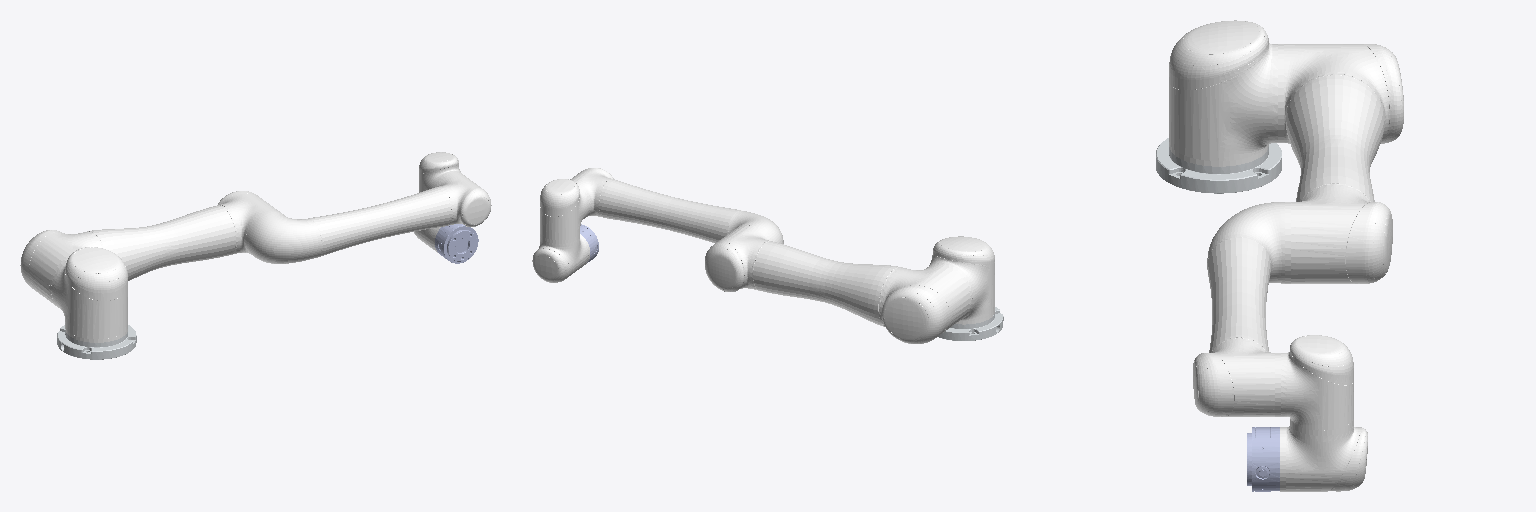
robot.urdf — ec66:
<?xml version="1.0" encoding="utf-8"?>
<robot name="ec66">
    <link name="world" />
  <joint name="world_joint" type="fixed">
    <origin xyz="0 0 0" rpy="0 0 0" />
    <parent link="world" />
    <child link="base_link" />
  </joint>
  <link name="base_link">
  <inertial>
    <origin xyz="0.00039768 8.0247E-10 0.012605" rpy="0 0 0" />
    <mass value="0.41542" />
    <inertia ixx="0.00054632" ixy="-4.5067E-09" ixz="5.9528E-07" iyy="0.00053741" iyz="-3.5275E-10" izz="0.0010336" />
  </inertial>
  <visual>
    <origin xyz="0 0 0" rpy="0 0 0" />
    <geometry>
      <mesh filename="package://elite_description/meshes/ec66/base_link.STL" />
    </geometry>
    <material name="">
      <color rgba="0.89412 0.91373 0.92941 1" />
    </material>
  </visual>
  <collision>
    <origin xyz="0 0 0" rpy="0 0 0" />
    <geometry>
      <mesh filename="package://elite_description/meshes/ec66/base_link.STL" />
    </geometry>
  </collision>
  </link>
  <link name="link1">
  <inertial>
    <origin xyz="-3.9337E-06 0.0082614 0.0028405" rpy="0 0 0" />
    <mass value="1.7827" />
    <inertia ixx="0.0031691" ixy="-1.2175E-07" ixz="2.8351E-08" iyy="0.0029334" iyz="-0.00037927" izz="0.0035086" />
  </inertial>
  <visual>
    <origin xyz="0 0 0" rpy="0 0 0" />
    <geometry>
      <mesh filename="package://elite_description/meshes/ec66/link1.STL" />
    </geometry>
    <material name="">
      <color rgba="1 1 1 1" />
    </material>
  </visual>
  <collision>
    <origin xyz="0 0 0" rpy="0 0 0" />
    <geometry>
      <mesh filename="package://elite_description/meshes/ec66/link1.STL" />
    </geometry>
  </collision>
  </link>
  <joint name="joint1" type="revolute">
    <origin xyz="0 0 0.096" rpy="0 0 0" />
    <parent link="base_link" />
    <child link="link1" />
    <axis xyz="0 0 1" />
    <limit lower="-6.2832" upper="6.2832" effort="150" velocity="2.6199" />
  </joint>
  <link name="link2">
  <inertial>
    <origin xyz="2.17E-06 0.017318 0.17637" rpy="0 0 0" />
    <mass value="4.8843" />
    <inertia ixx="0.022101" ixy="1.2727E-07" ixz="1.0833E-07" iyy="0.022526" iyz="-0.00021178" izz="0.0066105" />
  </inertial>
  <visual>
    <origin xyz="0 0 0" rpy="0 0 0" />
    <geometry>
      <mesh filename="package://elite_description/meshes/ec66/link2.STL" />
    </geometry>
    <material name="">
      <color rgba="1 1 1 1" />
    </material>
  </visual>
  <collision>
    <origin xyz="0 0 0" rpy="0 0 0" />
    <geometry>
      <mesh filename="package://elite_description/meshes/ec66/link2.STL" />
    </geometry>
  </collision>
  </link>
  <joint name="joint2" type="revolute">
    <origin xyz="0 0.122 0" rpy="0 1.5708 0" />
    <parent link="link1" />
    <child link="link2" />
    <axis xyz="0 1 0" />
    <limit lower="-6.2832" upper="6.2832" effort="150" velocity="2.6199" />
  </joint>
  <link name="link3">
  <inertial>
    <origin xyz="-7.9845E-06 0.028008 0.20069" rpy="0 0 0" />
    <mass value="2.1495" />
    <inertia ixx="0.0091566" ixy="-1.4815E-07" ixz="-2.8912E-08" iyy="0.0091573" iyz="7.3471E-05" izz="0.0015747" />
  </inertial>
  <visual>
    <origin xyz="0 0 0" rpy="0 0 0" />
    <geometry>
      <mesh filename="package://elite_description/meshes/ec66/link3.STL" />
    </geometry>
    <material name="">
      <color rgba="1 1 1 1" />
    </material>
  </visual>
  <collision>
    <origin xyz="0 0 0" rpy="0 0 0" />
    <geometry>
      <mesh filename="package://elite_description/meshes/ec66/link3.STL" />
    </geometry>
  </collision>
  </link>
  <joint name="joint3" type="revolute">
    <origin xyz="0 -0.122 0.418" rpy="0 0 0" />
    <parent link="link2" />
    <child link="link3" />
    <axis xyz="0 1 0" />
    <limit lower="-2.7925" upper="2.7925" effort="150" velocity="3.3161" />
  </joint>
  <link name="link4">
  <inertial>
    <origin xyz="5.2272E-07 0.11599 -0.00070291" rpy="0 0 0" />
    <mass value="0.53436" />
    <inertia ixx="0.00041486" ixy="1.1841E-09" ixz="4.7177E-09" iyy="0.00037669" iyz="-5.8283E-05" izz="0.0004403" />
  </inertial>
  <visual>
    <origin xyz="0 0 0" rpy="0 0 0" />
    <geometry>
      <mesh filename="package://elite_description/meshes/ec66/link4.STL" />
    </geometry>
    <material name="">
      <color rgba="1 1 1 1" />
    </material>
  </visual>
  <collision>
    <origin xyz="0 0 0" rpy="0 0 0" />
    <geometry>
      <mesh filename="package://elite_description/meshes/ec66/link4.STL" />
    </geometry>
  </collision>
  </link>
  <joint name="joint4" type="revolute">
    <origin xyz="0 0 0.398" rpy="0 1.5708 0" />
    <parent link="link3" />
    <child link="link4" />
    <axis xyz="0 1 0" />
    <limit lower="-6.2832" upper="6.2832" effort="28" velocity="4.5379" />
  </joint>
  <link name="link5">
  <inertial>
    <origin xyz="5.2281E-07 0.00070291 0.091994" rpy="0 0 0" />
    <mass value="0.53436" />
    <inertia ixx="0.00041486" ixy="-4.6787E-09" ixz="1.1523E-09" iyy="0.0004403" iyz="5.8283E-05" izz="0.00037669" />
  </inertial>
  <visual>
    <origin xyz="0 0 0" rpy="0 0 0" />
    <geometry>
      <mesh filename="package://elite_description/meshes/ec66/link5.STL" />
    </geometry>
    <material name="">
      <color rgba="1 1 1 1" />
    </material>
  </visual>
  <collision>
    <origin xyz="0 0 0" rpy="0 0 0" />
    <geometry>
      <mesh filename="package://elite_description/meshes/ec66/link5.STL" />
    </geometry>
  </collision>
  </link>
  <joint name="joint5" type="revolute">
    <origin xyz="0 0.122 0" rpy="0 0 0" />
    <parent link="link4" />
    <child link="link5" />
    <axis xyz="0 0 1" />
    <limit lower="-6.2832" upper="6.2832" effort="28" velocity="4.5379" />
  </joint>
  <link name="link6">
  <inertial>
    <origin xyz="1.7828E-08 -0.067831 -2.6091E-05" rpy="0 0 0" />
    <mass value="0.16488" />
    <inertia ixx="7.7869E-05" ixy="1.9128E-10" ixz="-3.3406E-10" iyy="0.00011744" iyz="-7.8331E-08" izz="7.757E-05" />
  </inertial>
  <visual>
    <origin xyz="0 0 0" rpy="0 0 0" />
    <geometry>
      <mesh filename="package://elite_description/meshes/ec66/link6.STL" />
    </geometry>
    <material name="">
      <color rgba="0.79216 0.81961 0.93333 1" />
    </material>
  </visual>
  <collision>
    <origin xyz="0 0 0" rpy="0 0 0" />
    <geometry>
      <mesh filename="package://elite_description/meshes/ec66/link6.STL" />
    </geometry>
  </collision>
  </link>
  <joint name="joint6" type="revolute">
    <origin xyz="0 0 0.098" rpy="0 0 0" />
    <parent link="link5" />
    <child link="link6" />
    <axis xyz="0 -1 0" />
    <limit lower="-6.2832" upper="6.2832" effort="28" velocity="4.5379" />
  </joint>
  <link name="flan">
  <inertial>
    <origin xyz="-0.0051042 0.00088494 -0.00052221" rpy="0 0 0" />
    <mass value="0.10466" />
    <inertia ixx="0.00061835" ixy="0.00024116" ixz="-6.2654E-05" iyy="1.00441" iyz="1.3293E-05" izz="1.000143" />
  </inertial>
  <visual>
    <origin xyz="0 0 0" rpy="0 0 0" />
    <geometry>
      <box size="0 0 0" />
    </geometry>
    <material name="">
      <color rgba="1 1 1 1" />
    </material>
  </visual>
  <collision>
    <origin xyz="0 0 0" rpy="0 0 0" />
    <geometry>
      <box size="0 0 0" />
    </geometry>
  </collision>
  </link>
  <joint name="flan_joint" type="fixed">
    <origin xyz="0 -0.089 -0.00047661" rpy="-1.5708 0 3.1416" />
    <parent link="link6" />
    <child link="flan" />
    <axis xyz="0 0 0" />
  </joint>

    <transmission name="trans_joint1">
        <type>transmission_interface/SimpleTransmission</type>
        <joint name="joint1">
            <hardwareInterface>hardware_interface/PositionJointInterface</hardwareInterface>
        </joint>
        <actuator name="joint1_motor">
            <mechanicalReduction>1</mechanicalReduction>
        </actuator>
    </transmission>
    <transmission name="trans_joint2">
        <type>transmission_interface/SimpleTransmission</type>
        <joint name="joint2">
            <hardwareInterface>hardware_interface/PositionJointInterface</hardwareInterface>
        </joint>
        <actuator name="joint2_motor">
            <mechanicalReduction>1</mechanicalReduction>
        </actuator>
    </transmission>
    <transmission name="trans_joint3">
        <type>transmission_interface/SimpleTransmission</type>
        <joint name="joint3">
            <hardwareInterface>hardware_interface/PositionJointInterface</hardwareInterface>
        </joint>
        <actuator name="joint3_motor">
            <mechanicalReduction>1</mechanicalReduction>
        </actuator>
    </transmission>
    <transmission name="trans_joint4">
        <type>transmission_interface/SimpleTransmission</type>
        <joint name="joint4">
            <hardwareInterface>hardware_interface/PositionJointInterface</hardwareInterface>
        </joint>
        <actuator name="joint4_motor">
            <mechanicalReduction>1</mechanicalReduction>
        </actuator>
    </transmission>
    <transmission name="trans_joint5">
        <type>transmission_interface/SimpleTransmission</type>
        <joint name="joint5">
            <hardwareInterface>hardware_interface/PositionJointInterface</hardwareInterface>
        </joint>
        <actuator name="joint5_motor">
            <mechanicalReduction>1</mechanicalReduction>
        </actuator>
    </transmission>
    <transmission name="trans_joint6">
        <type>transmission_interface/SimpleTransmission</type>
        <joint name="joint6">
            <hardwareInterface>hardware_interface/PositionJointInterface</hardwareInterface>
        </joint>
        <actuator name="joint6_motor">
            <mechanicalReduction>1</mechanicalReduction>
        </actuator>
    </transmission>
    <gazebo>
        <plugin name="gazebo_ros_control" filename="libgazebo_ros_control.so">
            <robotNamespace>/</robotNamespace>
        </plugin>
    </gazebo>
</robot>

--- Render facts (derived) ---
Views: 3 orthographic renders of the robot side by side, from view 1: azimuth 30°, elevation 25°; view 2: azimuth 150°, elevation 25°; view 3: azimuth 270°, elevation 25°.
Robot: ec66 — 9 links, 8 joints (6 revolute, 2 fixed); root link world; default pose: all joints at 0.
Visible links, largest first — view 1: link2, link3, link1, base_link, link6, link4; view 2: link2, link3, link1, link4, link5, base_link; view 3: link2, link3, link1, link4, link5, base_link, link6.
Link boxes in pixels (bbox=[...]): link2: bbox=[20, 191, 280, 305]; link3: bbox=[246, 173, 491, 263]; link1: bbox=[51, 247, 127, 342]; base_link: bbox=[57, 325, 136, 359]; link6: bbox=[435, 224, 478, 263]; link4: bbox=[419, 152, 461, 192]; link2: bbox=[705, 224, 972, 343]; link3: bbox=[570, 168, 783, 243]; link1: bbox=[929, 236, 994, 324]; link4: bbox=[540, 179, 589, 243]; link5: bbox=[532, 234, 589, 282]; base_link: bbox=[938, 307, 1003, 340]; link2: bbox=[1278, 44, 1403, 283]; link3: bbox=[1193, 202, 1284, 416]; link1: bbox=[1169, 20, 1277, 166]; link4: bbox=[1281, 335, 1353, 435]; link5: bbox=[1280, 425, 1367, 491]; base_link: bbox=[1156, 138, 1281, 193]; link6: bbox=[1247, 427, 1279, 491].
Size in the robot's own frame: 0.9291 by 0.2947 by 0.2177 metres.
7 mesh visuals loaded from 7 distinct referenced files (7 binary STL).